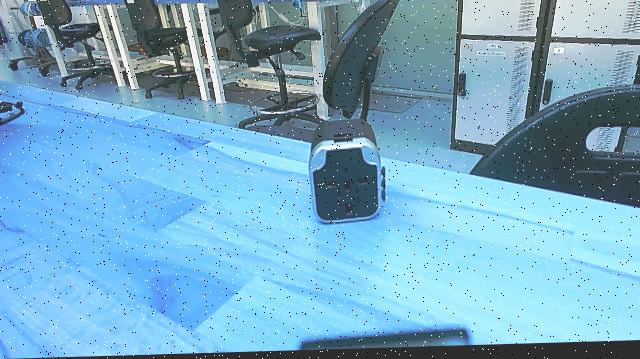adapter: (308, 122, 390, 241)
